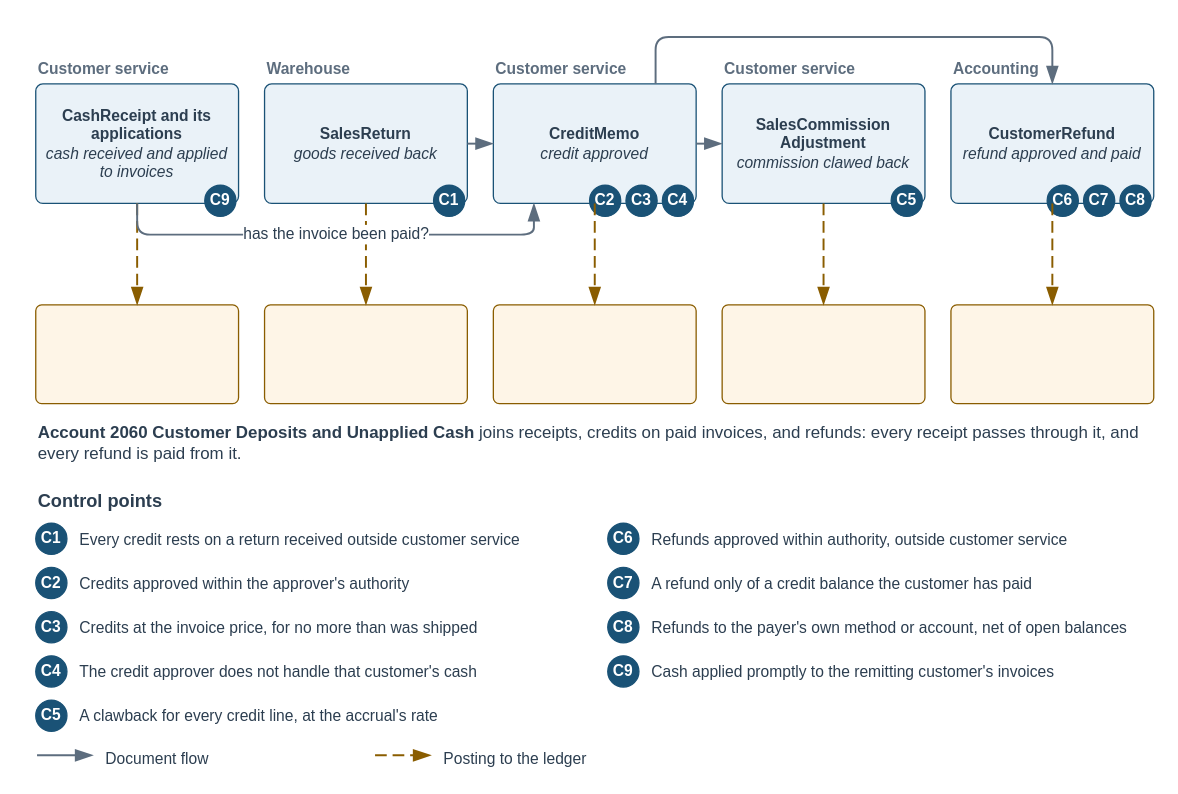
The diagram is 1178 pixels wide and 794 high, and some of its shapes have lost their labels. Each missing label, with the centre of its shape:
Dr 1040 Inventory Cr 5010–5040 Cost of goods sold: point (365, 354)
Dr 2034 Commission payable Cr 6290 Commission expense: point (823, 354)
Dr 2060 Cr 1010 Cash: point (1052, 354)
Dr 4060, 4050, 2050 Cr 1020 and/or 2060: point (594, 354)
Receipt: Dr 1010, Cr 2060 Application: Dr 2060 , Cr 1020: point (136, 354)
